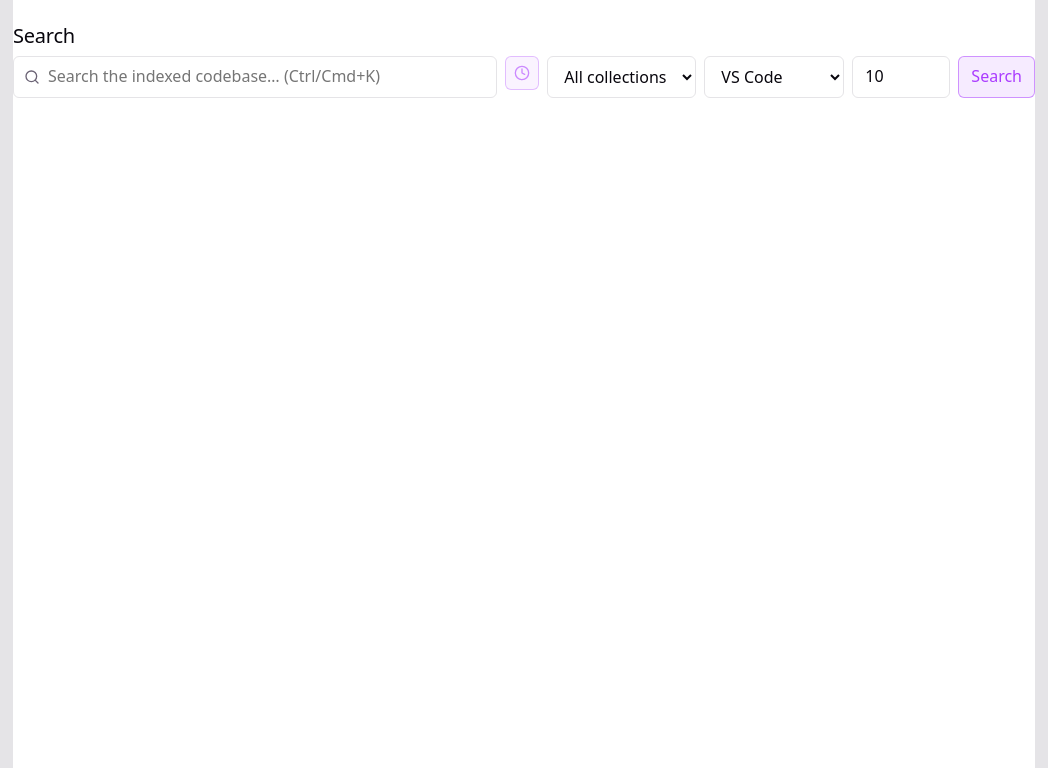
Scenario: SearchPanel › shows an error message when the search fails
Type "greet" into the field with placeholder "Search the indexed codebase… (Ctrl/Cmd+K)" at point(267, 77), box 48,57 -> 486,96
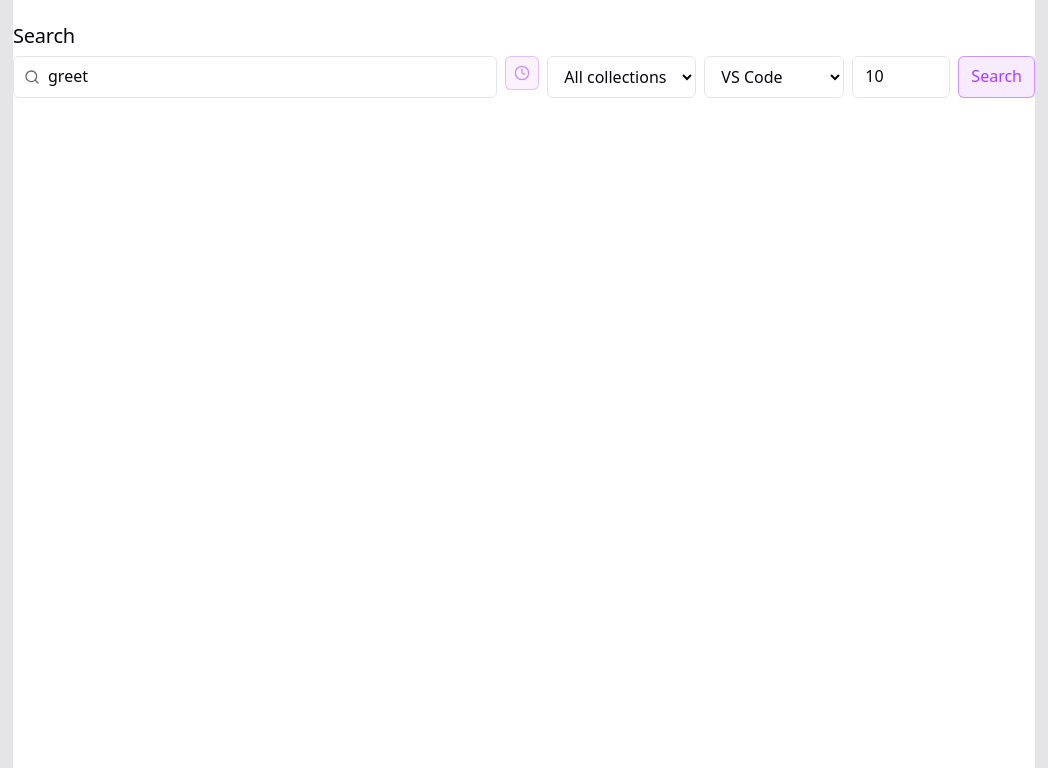
Submit the form, box 13,56 -> 1035,98
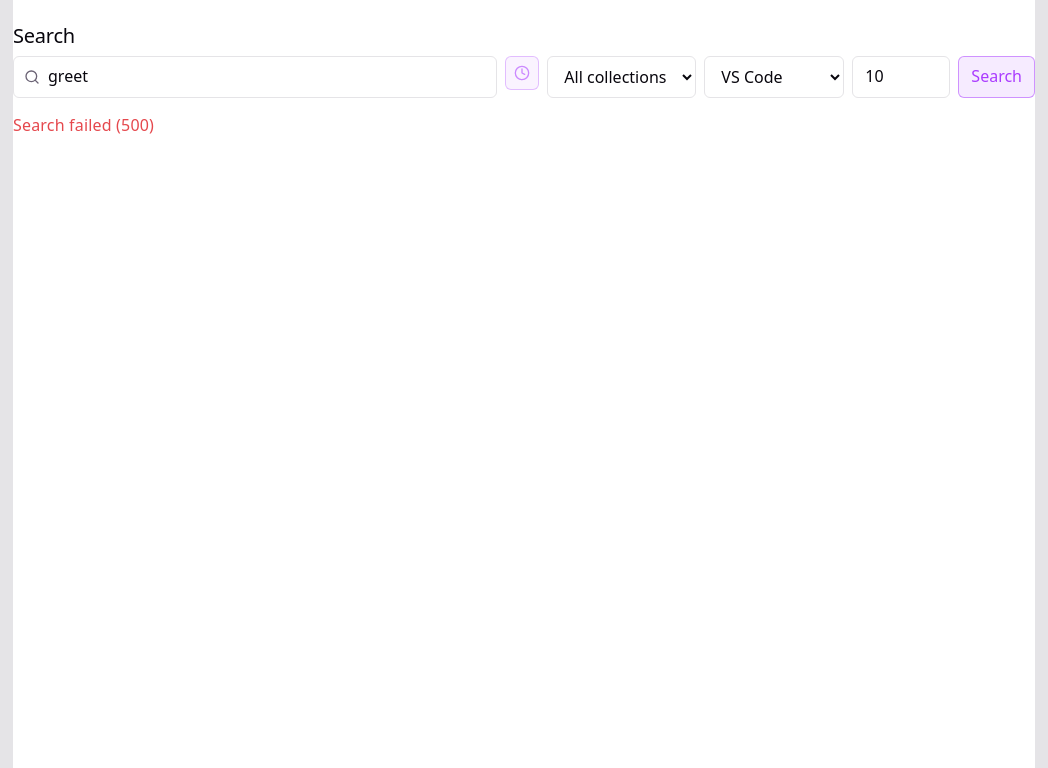
Now the message "Search failed (500)" is shown, box 13,114 -> 154,136
